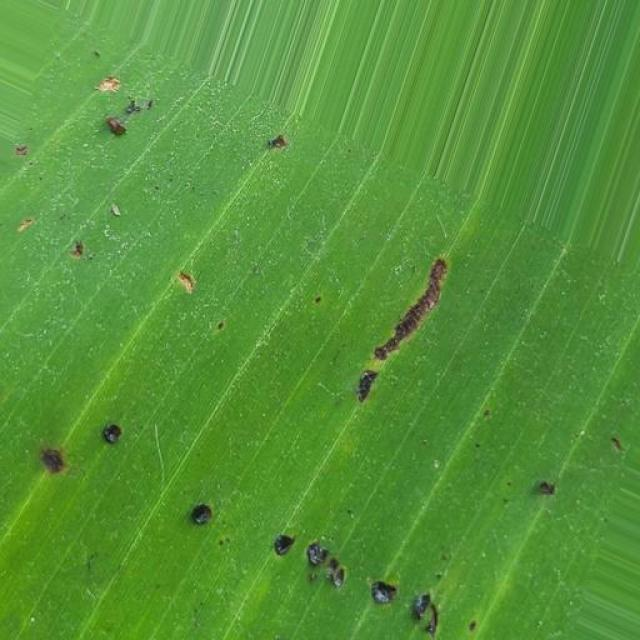Black_rot: (12, 401, 532, 640), (45, 64, 319, 297), (302, 253, 486, 438), (509, 453, 582, 539)
